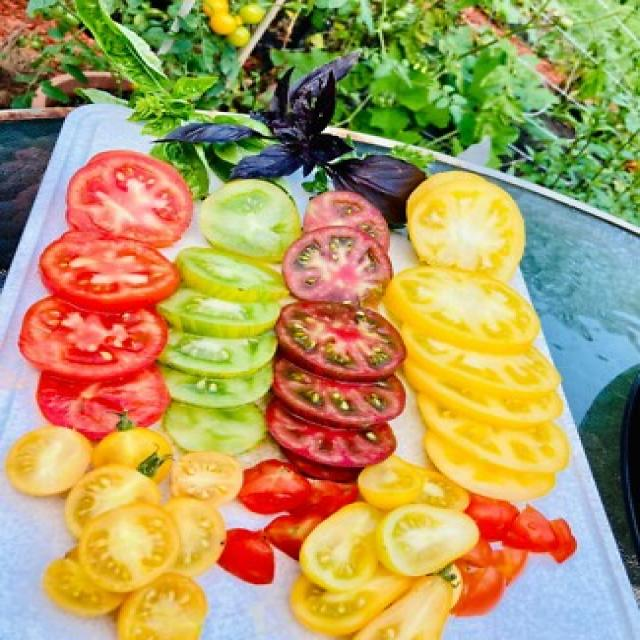orange: (227, 26, 250, 46)
tomato: (384, 264, 540, 357), (422, 410, 566, 500), (404, 172, 524, 278), (63, 149, 191, 246), (20, 296, 165, 379), (404, 352, 557, 427), (38, 232, 178, 312), (292, 292, 405, 383), (276, 299, 402, 379), (34, 365, 165, 437), (266, 400, 392, 474), (75, 501, 177, 589), (272, 358, 400, 428), (281, 227, 392, 307), (197, 176, 299, 259), (287, 566, 403, 636), (297, 502, 390, 589), (374, 502, 477, 576), (158, 286, 280, 341), (174, 247, 286, 306), (356, 454, 467, 512), (65, 466, 159, 534), (4, 424, 91, 496), (4, 426, 89, 496), (116, 571, 205, 637), (158, 326, 274, 376), (163, 398, 266, 454), (160, 357, 272, 408), (41, 552, 126, 616), (156, 498, 227, 574), (449, 542, 520, 616), (301, 189, 388, 245), (89, 426, 173, 483), (87, 426, 171, 482), (236, 461, 315, 512), (170, 448, 244, 502), (276, 446, 368, 485), (207, 11, 236, 35), (236, 3, 266, 24), (201, 0, 228, 16)
